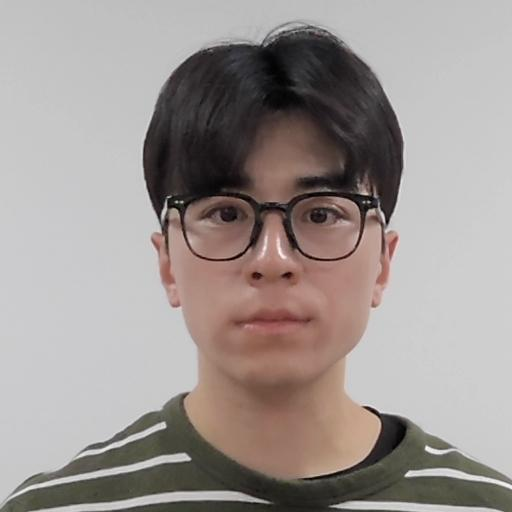no_glasses: (137, 21, 419, 390)
